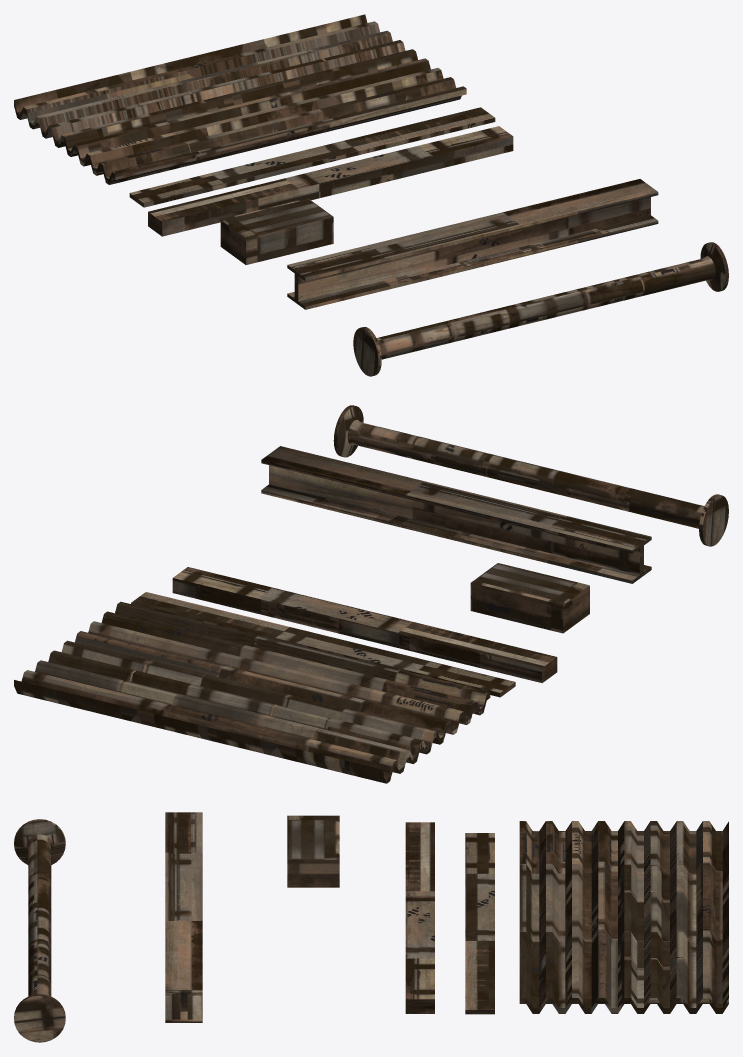
3 renders of one model, top to bottom at view 1: azimuth 30°, elevation 25°; view 2: azimuth 150°, elevation 25°; view 3: azimuth 270°, elevation 25°, orthographic. The views are drawn at different scales.
Visible parts, largest first — view 1: Iron_sheet, Beam, WoodBeam, Iron_Pole, WoodPlank, Brick; view 2: Iron_sheet, Beam, WoodBeam, Iron_Pole, WoodPlank, Brick; view 3: Iron_sheet, Beam, Iron_Pole, WoodBeam, WoodPlank, Brick.
Part boxes in pixels (box(x1,y1,x2,y2)): Iron_sheet: box(14, 14, 466, 184); Beam: box(287, 179, 658, 309); WoodBeam: box(148, 126, 513, 236); Iron_Pole: box(353, 242, 728, 376); WoodPlank: box(129, 107, 495, 207); Brick: box(220, 198, 333, 264); Iron_sheet: box(14, 601, 490, 783); Beam: box(261, 446, 651, 583); WoodBeam: box(172, 567, 557, 682); Iron_Pole: box(333, 405, 728, 546); WoodPlank: box(131, 592, 515, 697); Brick: box(470, 563, 589, 633); Iron_sheet: box(519, 821, 728, 1013); Beam: box(165, 812, 202, 1022); Iron_Pole: box(14, 819, 65, 1042); WoodBeam: box(405, 822, 434, 1013); WoodPlank: box(465, 833, 494, 1014); Brick: box(287, 815, 339, 887).
Bounding box in the file's own units: 216 × 28.41 × 342.
